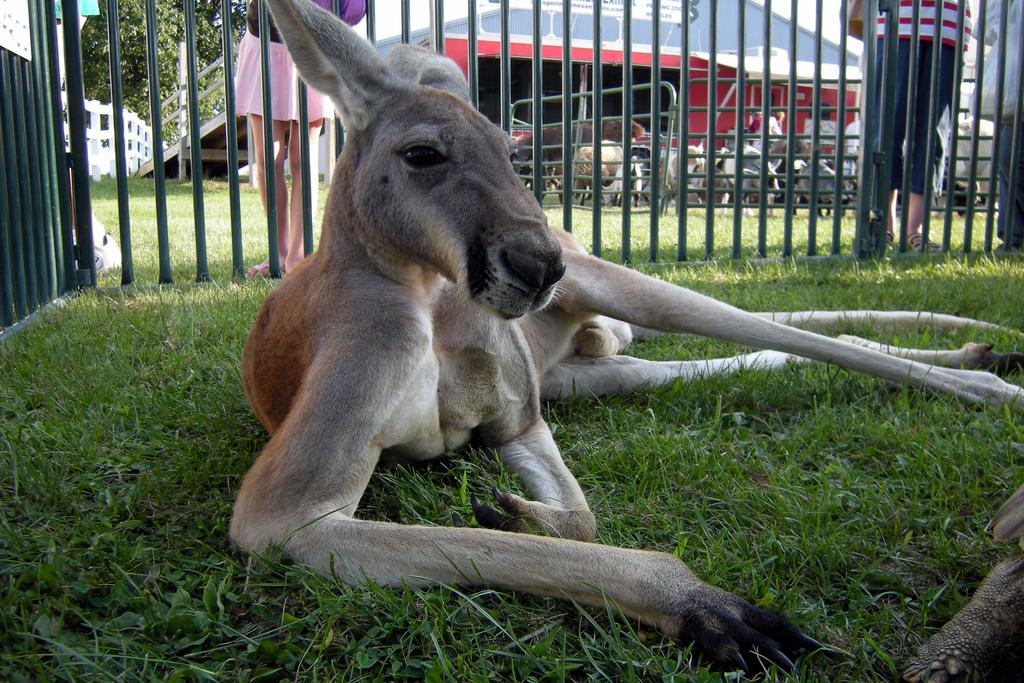kangaroo: (225, 0, 1017, 677)
